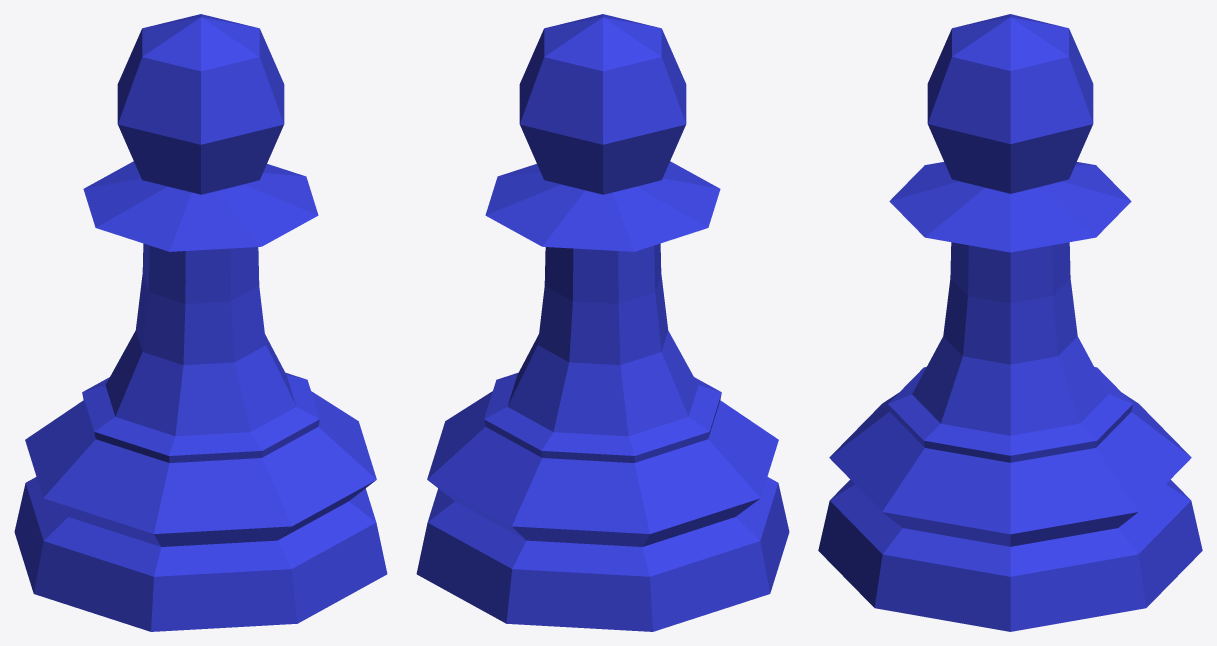
File: pawn_1.glb
The picture shows the model from 3 angles, left to right: view 1: azimuth 30°, elevation 25°; view 2: azimuth 150°, elevation 25°; view 3: azimuth 270°, elevation 25°; orthographic projection.
Parts seen in each view (by area): view 1: Pawn_1; view 2: Pawn_1; view 3: Pawn_1.
Boxes of the visible parts, left/top/right/bottom form: Pawn_1: left=14, top=14, right=387, bottom=631; Pawn_1: left=416, top=14, right=789, bottom=631; Pawn_1: left=818, top=14, right=1202, bottom=631.
Bounding box in the file's own units: 0.15 × 0.2297 × 0.15.
